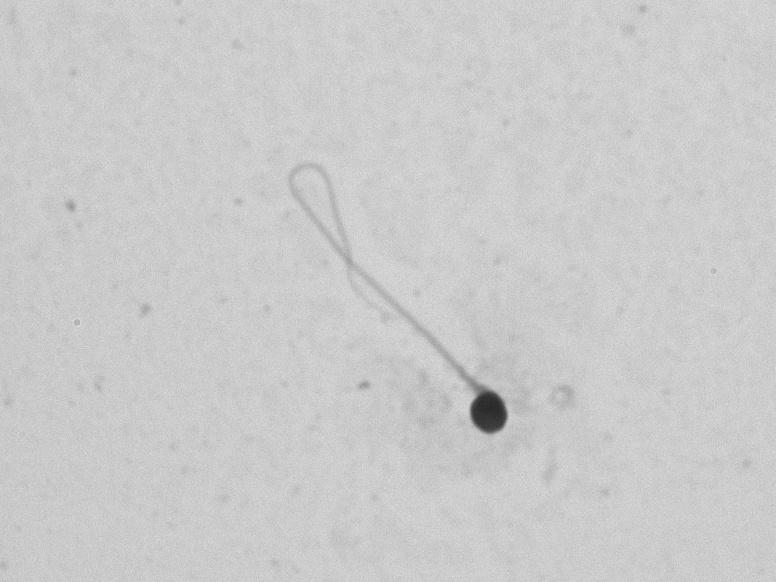Abnormal: (275, 129, 548, 473)
